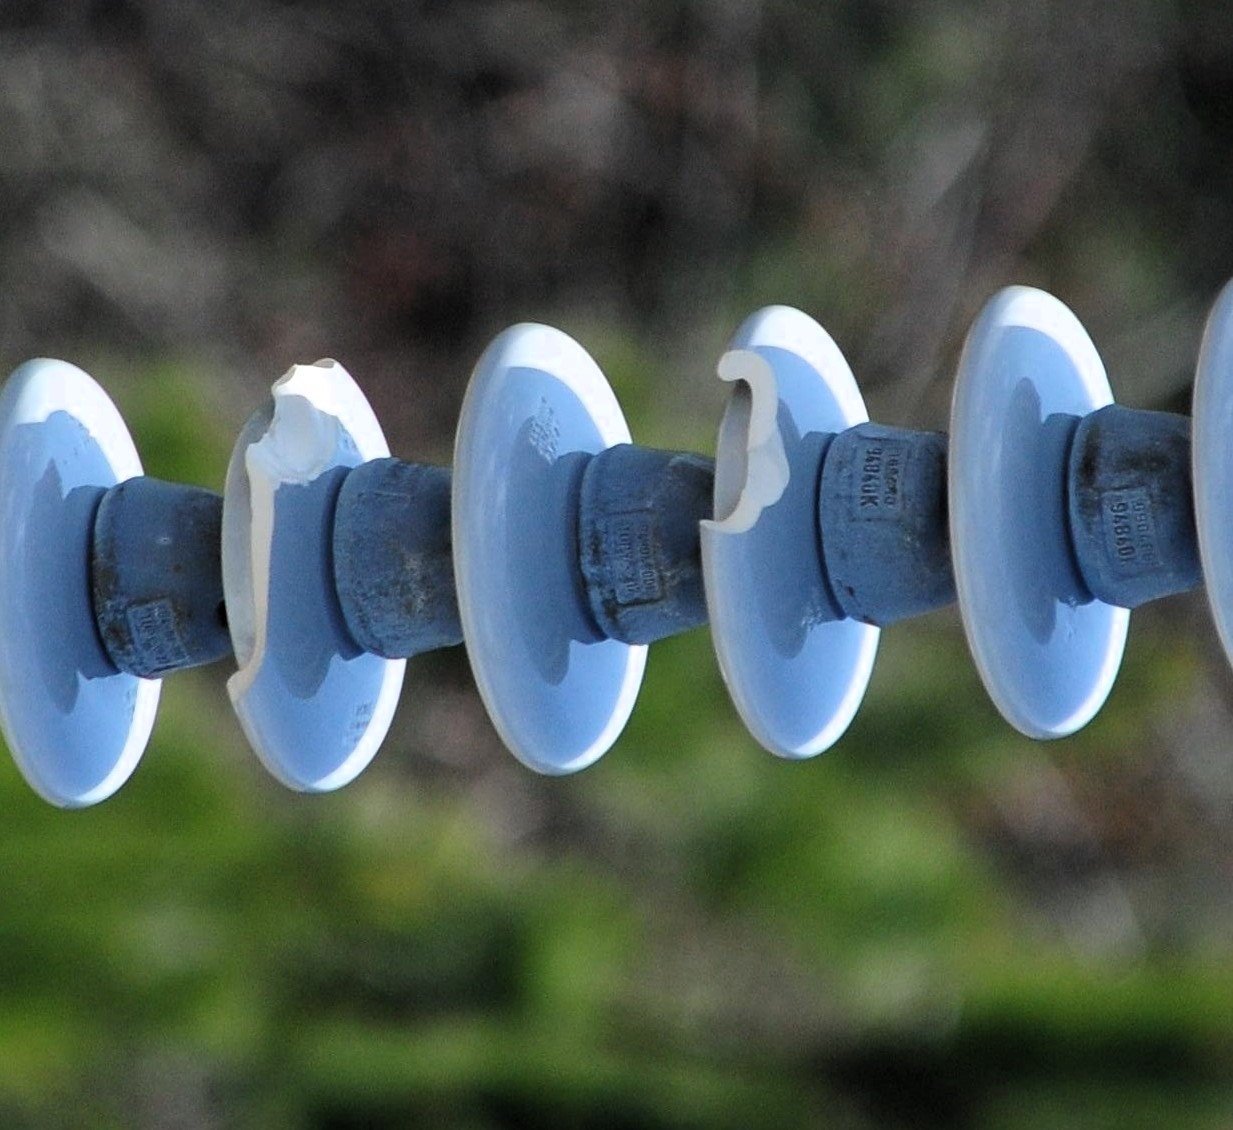insulator breakage: (208, 322, 418, 808), (673, 300, 890, 766)
